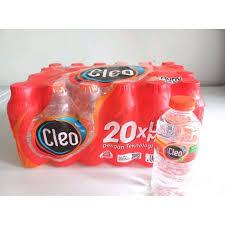BIODEGRADABLE: (145, 89, 204, 202)
